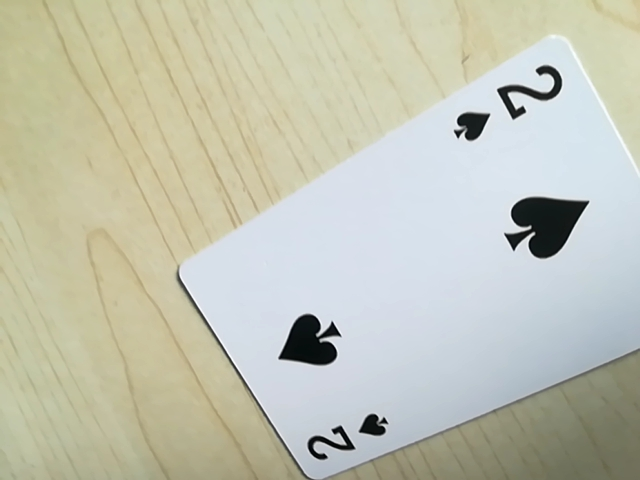ht 2: (451, 57, 571, 152), (293, 409, 394, 474)
